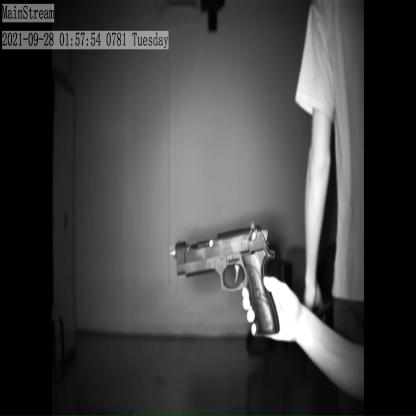weapon: (170, 217, 282, 339)
